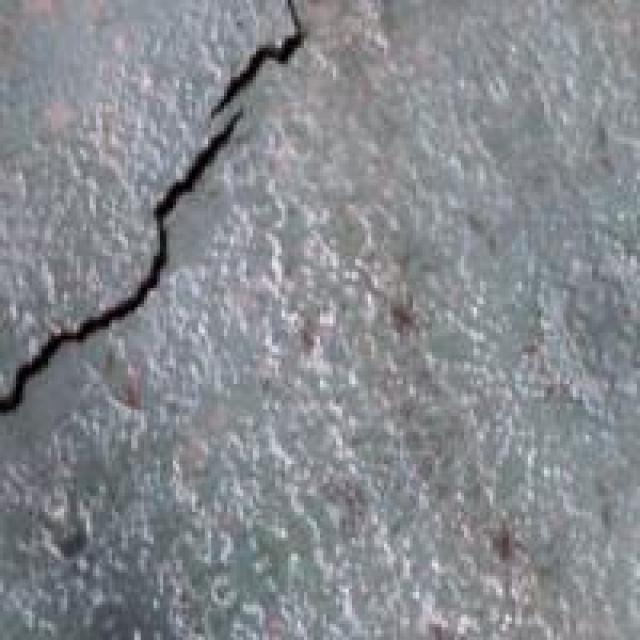crack: (7, 6, 314, 416)
